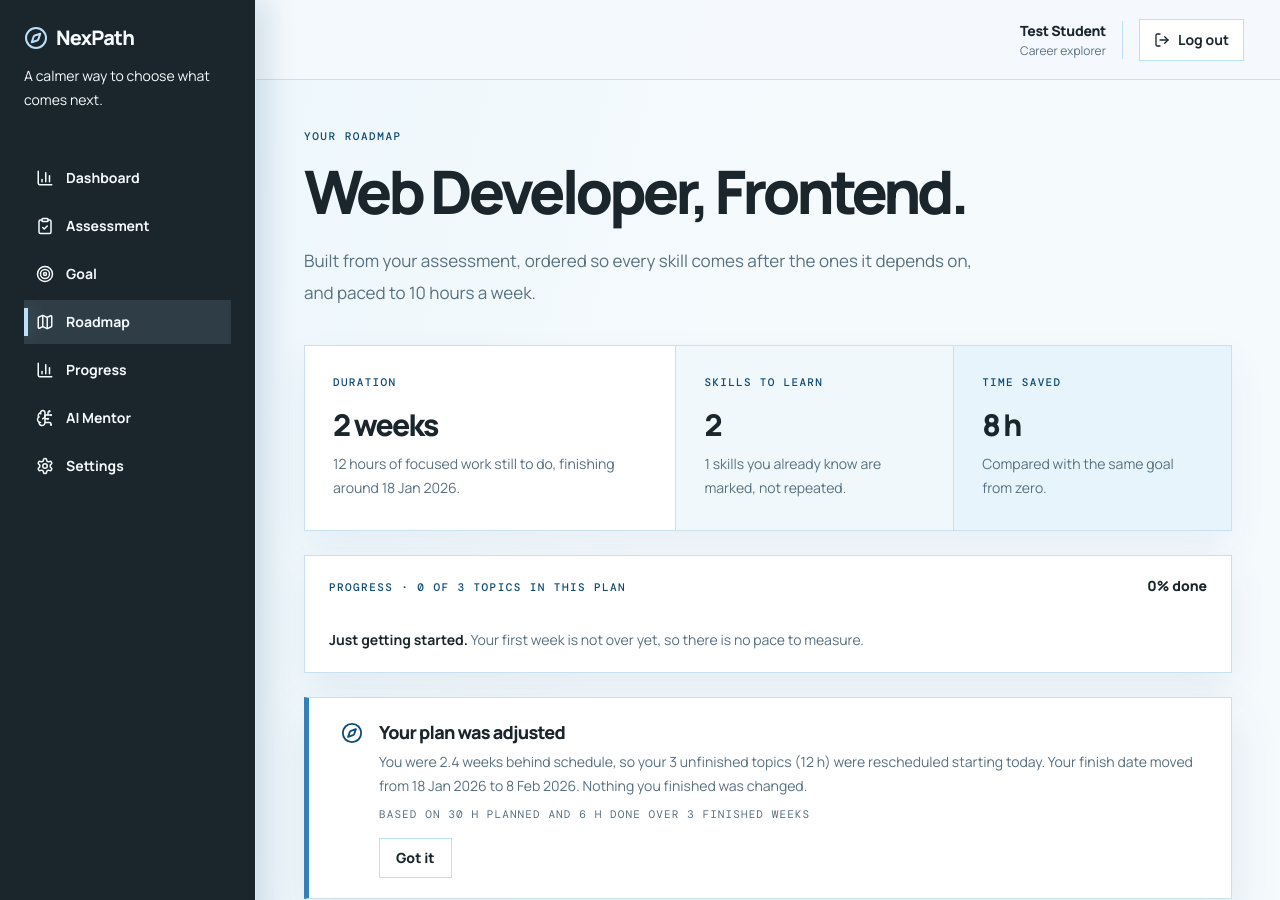
Test case: roadmap page and replanning › shows the explanation after a replan and removes it once it has been read
Expected: the text "2.4 weeks behind schedule" is shown, [379,752,1193,794]
Click the button "Got it": (415, 858) [379,838,452,878]
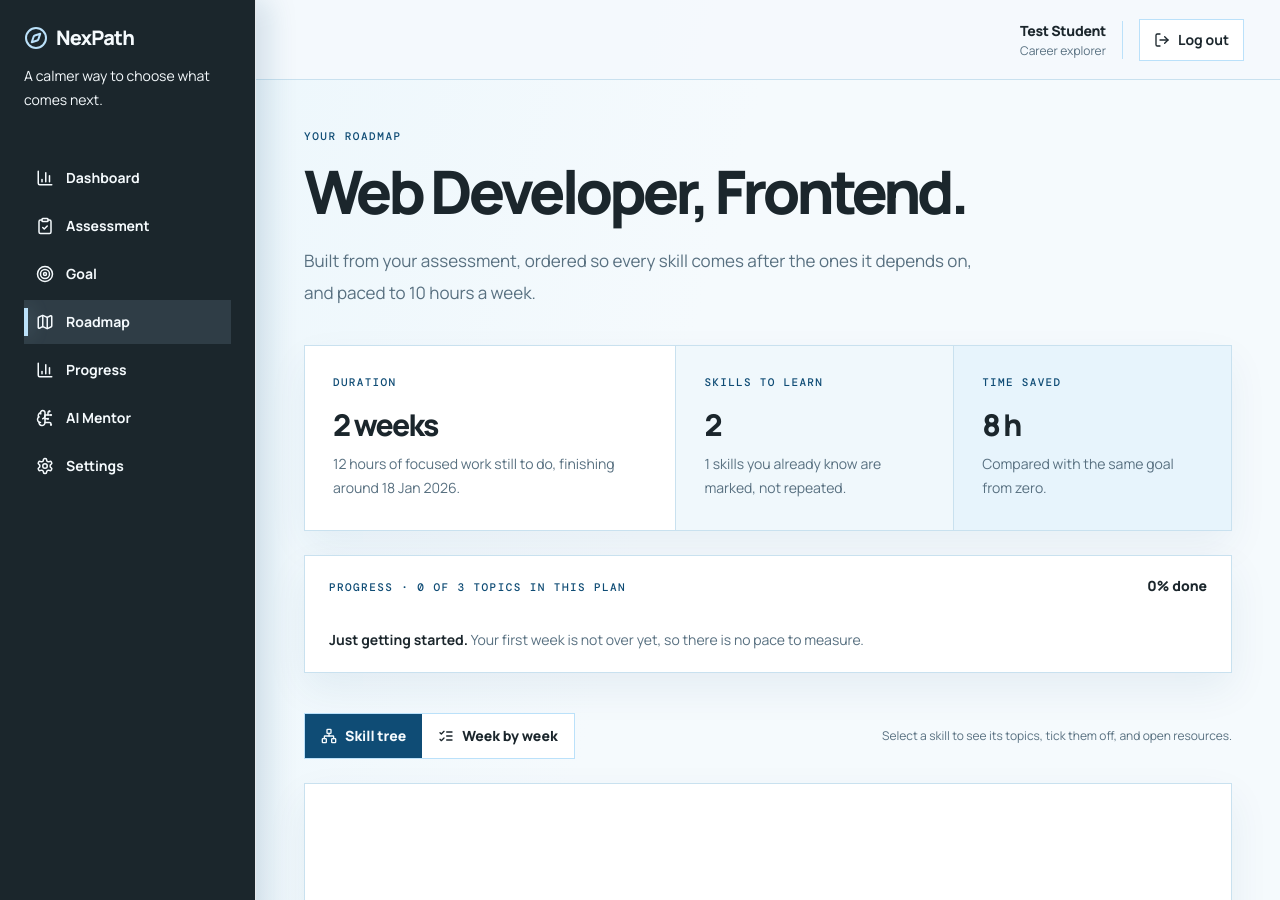
Result: the text "2.4 weeks behind schedule" is gone
